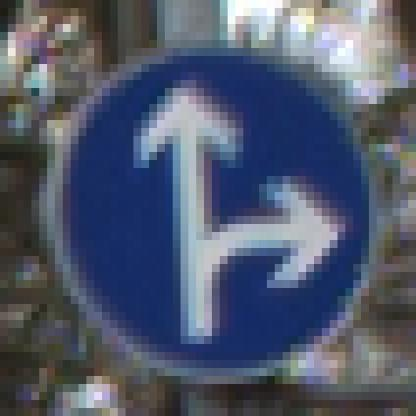Straight or Right: (48, 41, 378, 377)
